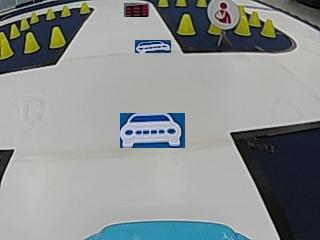cone: (177, 13, 196, 35), (235, 10, 250, 36), (49, 27, 66, 48), (0, 31, 13, 58), (261, 18, 276, 38), (24, 32, 39, 52), (9, 23, 20, 38), (79, 2, 90, 14), (60, 5, 71, 17), (45, 8, 55, 20), (20, 17, 30, 29), (30, 11, 39, 23), (195, 0, 207, 7), (175, 0, 187, 7), (157, 0, 169, 7)
patient: (209, 0, 236, 27)
